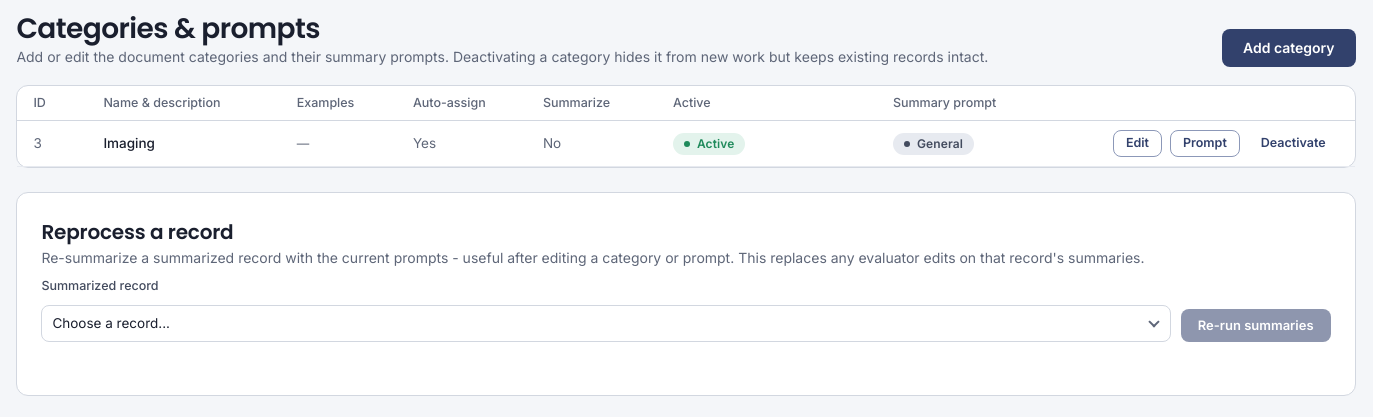
Test: AdminView re-run picker › re-runs the chosen record, names it, and clears the selection
Select "second-packet.pdf" in the dropdown labelled "Summarized record" at x=606, y=323, box [41, 305, 1171, 342]
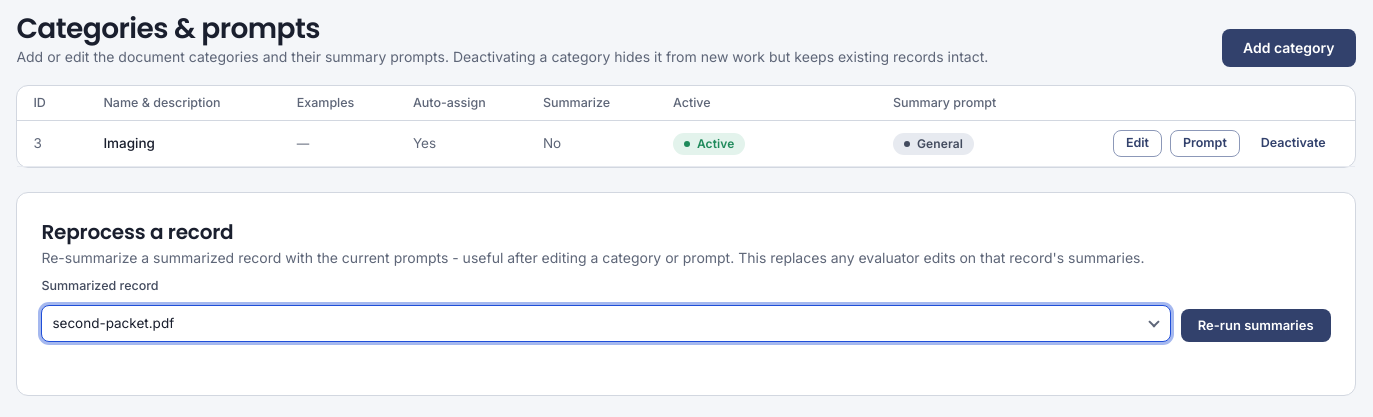
Click the button "Re-run summaries".
click(1256, 326)  # box [1181, 309, 1331, 342]
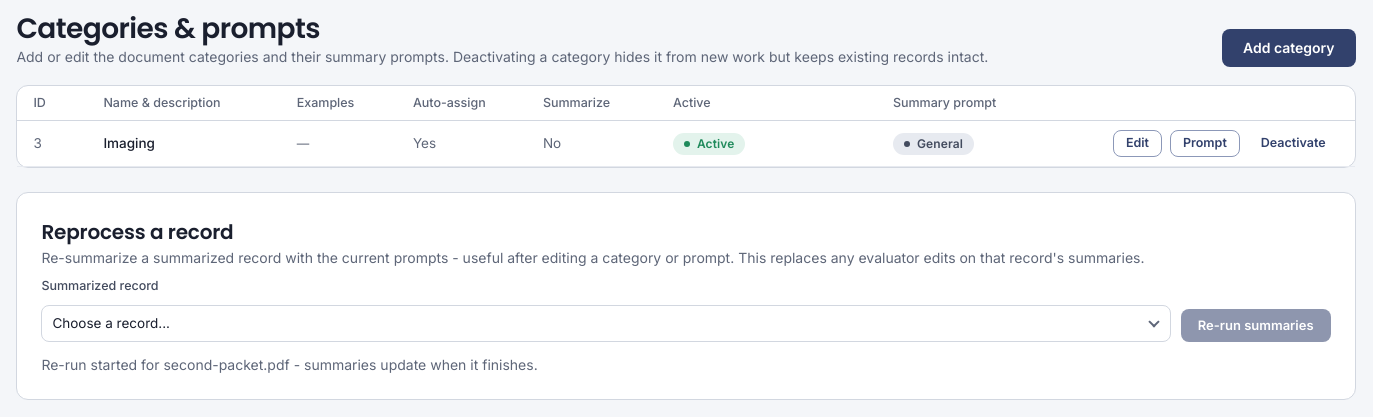
Result: the text "Re-run started for second-packet.pdf" is shown at [41, 356, 538, 373]
